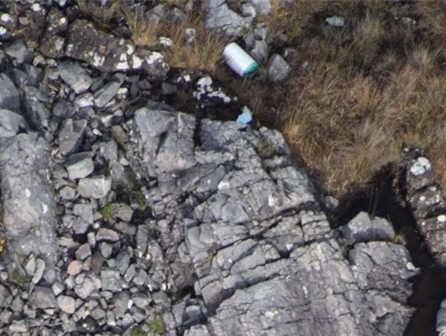white_in_green: (196, 21, 283, 97), (220, 96, 269, 137)
